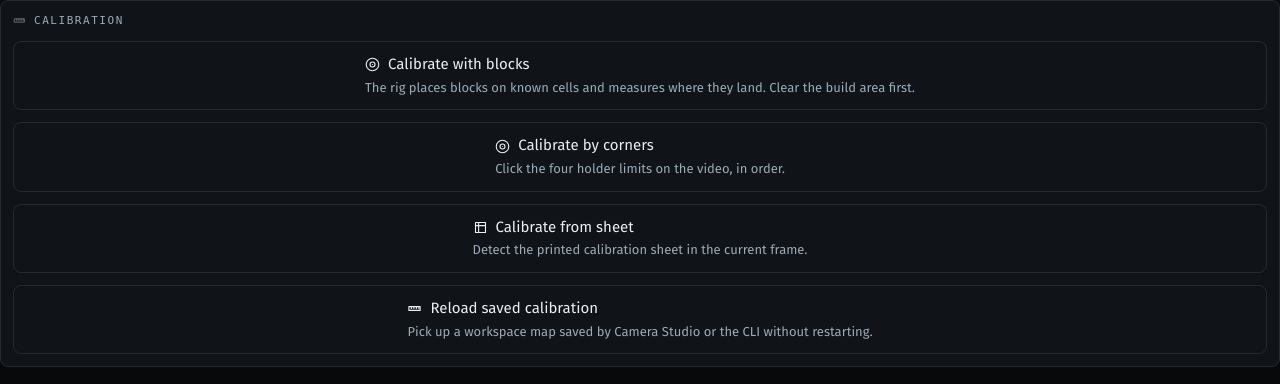
placed-block calibration › shows a refused step without losing the placements already made
Click the button "Calibrate with blocks" at (459, 64), box left=13, top=41, right=1267, bottom=110
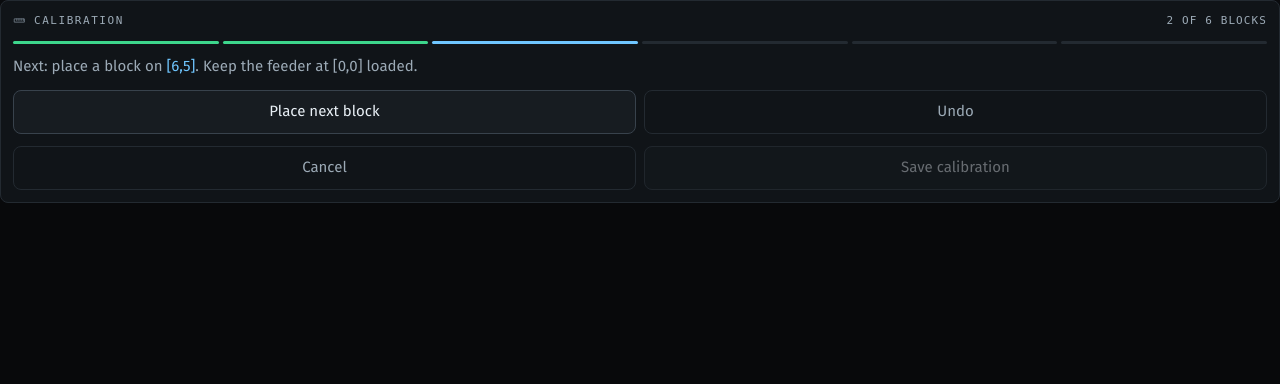
Click the button "Place next block" at (324, 112), box left=13, top=90, right=636, bottom=134
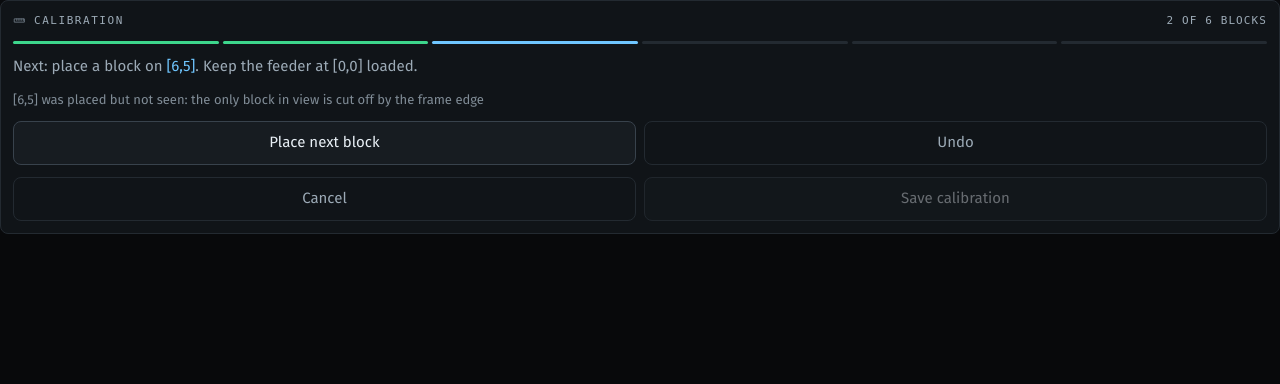
Expected: the button "Place next block" is enabled, left=13, top=121, right=636, bottom=165
Now the text "[6,5]" is shown, box left=166, top=57, right=195, bottom=75
Now the message shows "cut off by the frame edge", box left=13, top=92, right=484, bottom=107
